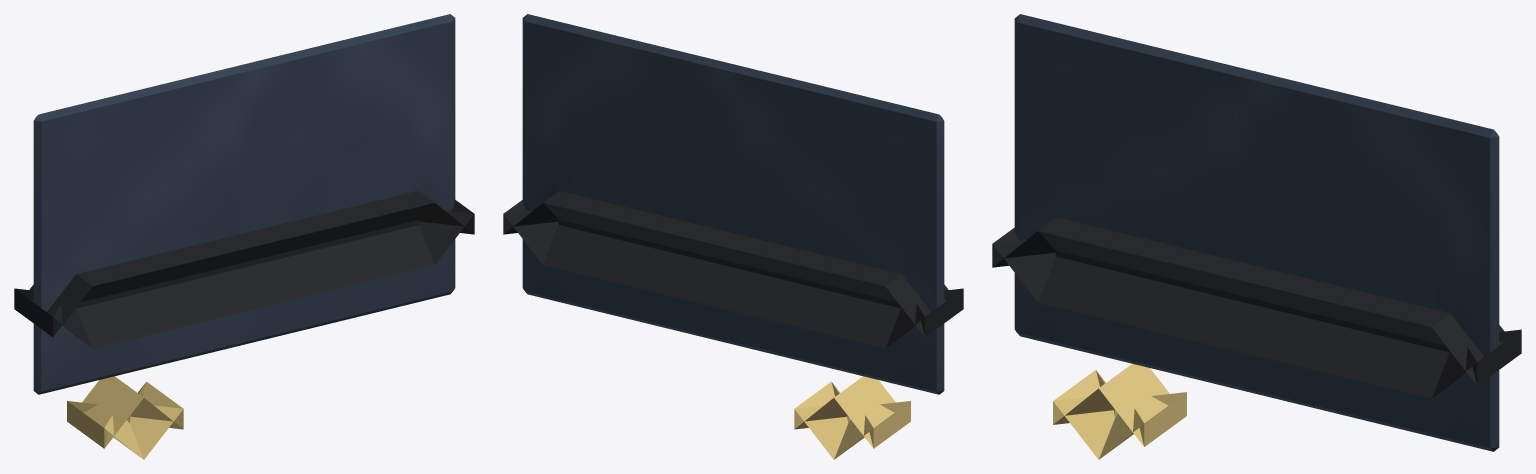
File: item_keycard.glb
The picture shows the model from 3 angles, left to right: view 1: azimuth 30°, elevation 25°; view 2: azimuth 150°, elevation 25°; view 3: azimuth 330°, elevation 25°; orthographic projection. The views are drawn at different scales.
Parts seen in each view (by area): view 1: body; view 2: body; view 3: body.
Part boxes in pixels (left/top/right/bottom): body: left=14, top=14, right=474, bottom=459; body: left=503, top=14, right=963, bottom=459; body: left=992, top=14, right=1521, bottom=459.
Bounding box in the file's own units: 0.085 × 0.068 × 0.0135.
Materials: 3 (1 with a texture image).
